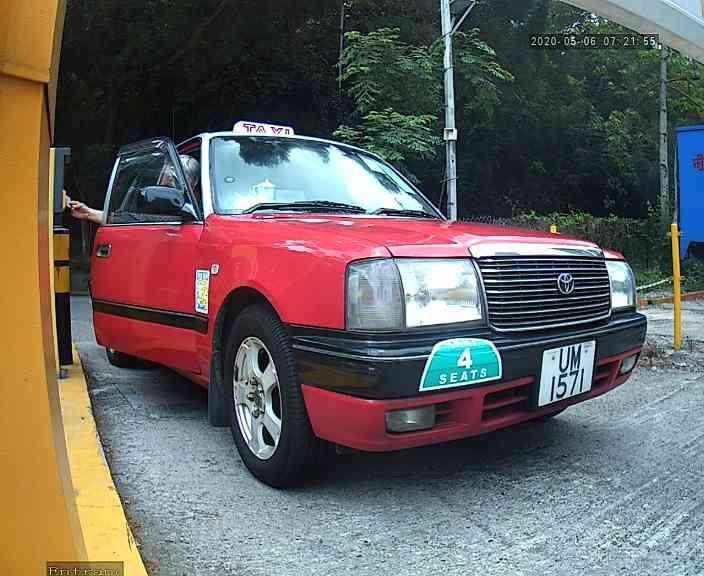Car: (77, 54, 663, 495)
License Plate: (531, 335, 602, 409)
